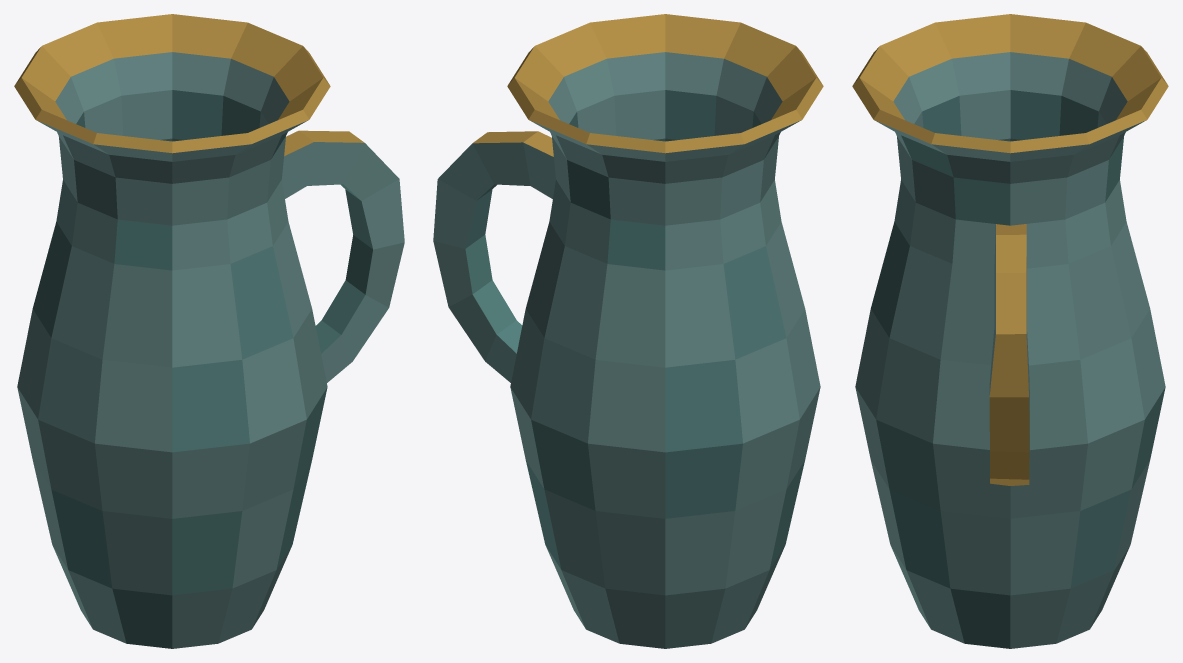
The model's file is vaseA.glb.
The picture shows the model from 3 angles, left to right: view 1: azimuth 30°, elevation 25°; view 2: azimuth 150°, elevation 25°; view 3: azimuth 270°, elevation 25°; orthographic projection.
Visible parts, largest first — view 1: Circle; view 2: Circle; view 3: Circle.
Boxes of the visible parts, x1,y1,x2,y2 form: Circle: (14,14,404,648); Circle: (433,14,823,648); Circle: (852,14,1168,648).
Size of the model in its own units: 1.39 by 1.96 by 1.05.
